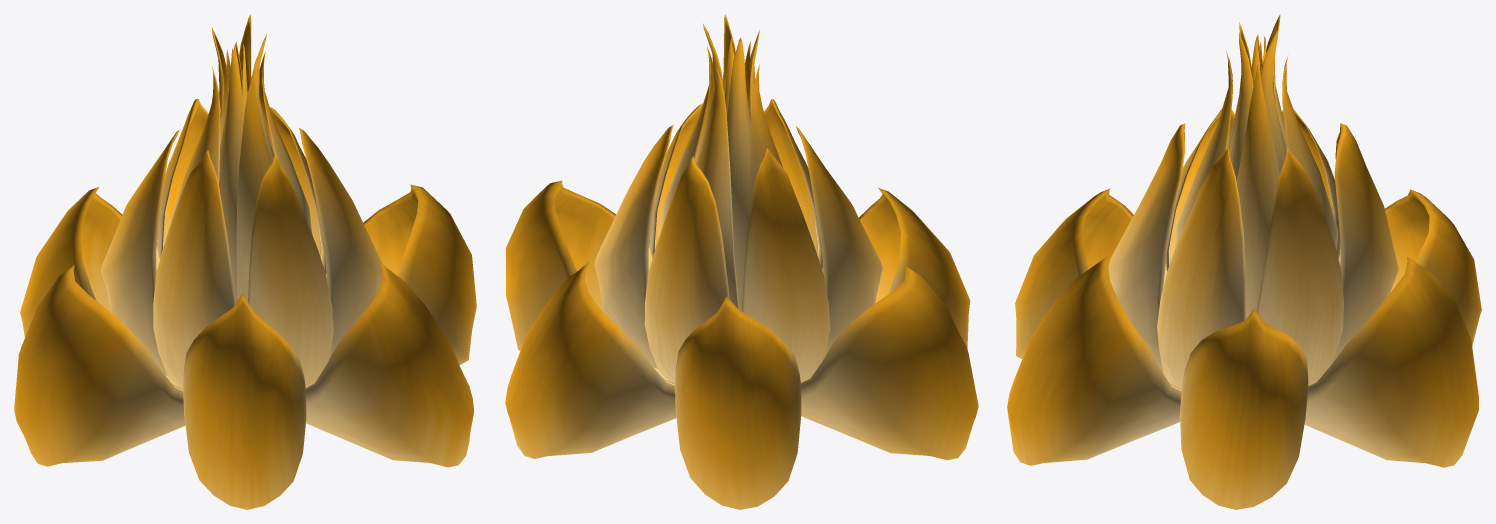
Rendered from Lotus-Flower.fbx.
3 renders of one model, left to right at view 1: azimuth 30°, elevation 25°; view 2: azimuth 150°, elevation 25°; view 3: azimuth 270°, elevation 25°, orthographic. The views are drawn at different scales.
Visible parts, largest first — view 1: Lotus; view 2: Lotus; view 3: Lotus.
Boxes of the visible parts, left/top/right/bottom form: Lotus: left=14, top=14, right=476, bottom=509; Lotus: left=505, top=14, right=978, bottom=509; Lotus: left=1007, top=14, right=1481, bottom=509.
Size of the model in its own units: 0.2744 by 0.219 by 0.2403.
